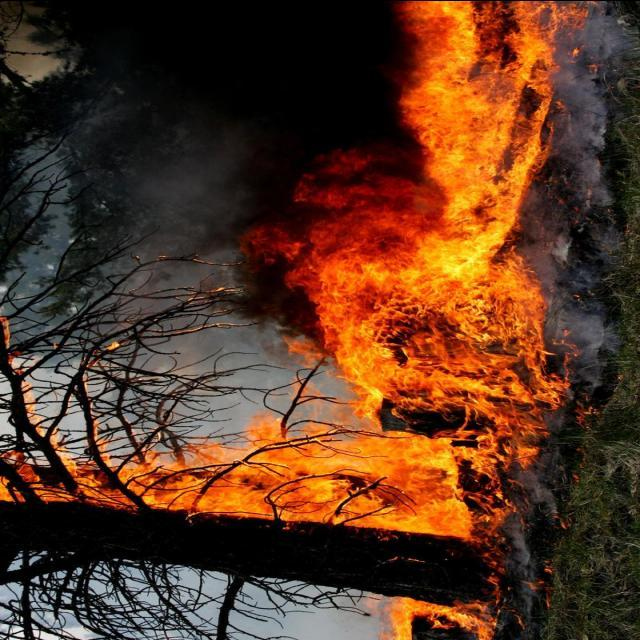Fire: (14, 0, 588, 634)
